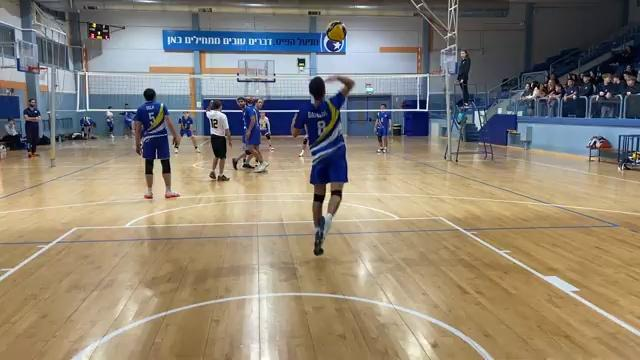ball: (324, 18, 351, 44)
